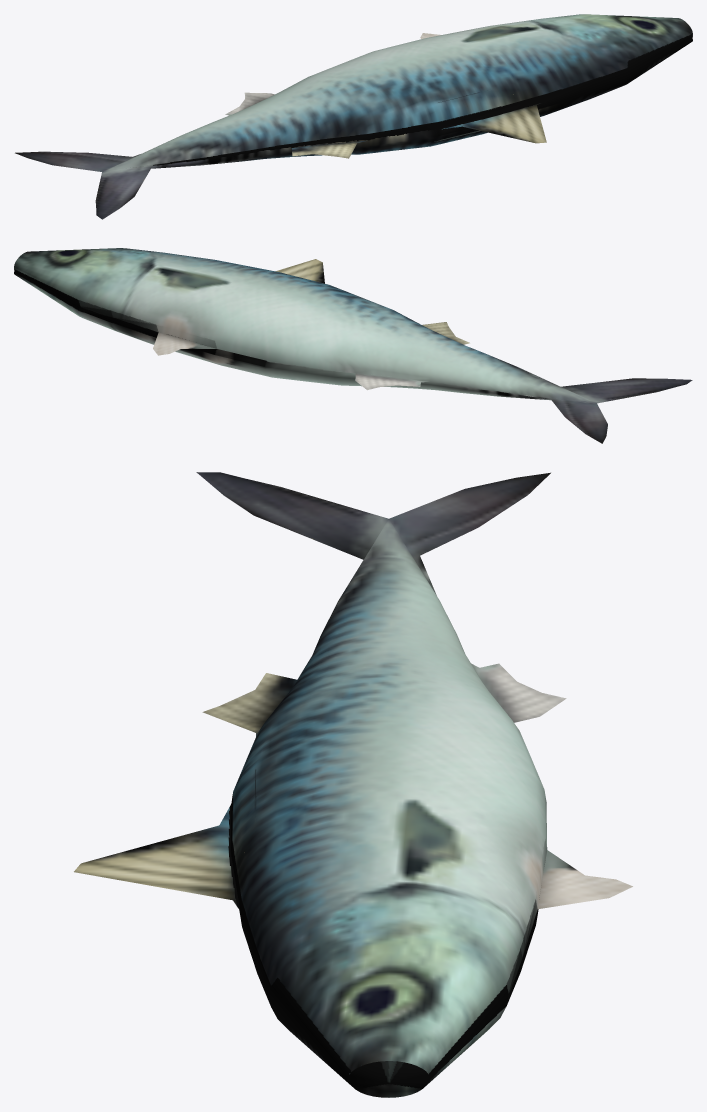
File: uploads_files_2699549_fish.fbx
The picture shows the model from 3 angles, top to bottom: view 1: azimuth 30°, elevation 25°; view 2: azimuth 150°, elevation 25°; view 3: azimuth 270°, elevation 25°; orthographic projection. The views are drawn at different scales.
Parts seen in each view (by area): view 1: Sphere; view 2: Sphere; view 3: Sphere.
Boxes of the visible parts, bbox=[...] form: Sphere: bbox=[15, 14, 692, 219]; Sphere: bbox=[14, 248, 692, 443]; Sphere: bbox=[74, 472, 632, 1097].
Bounding box in the file's own units: 164 × 18.47 × 63.41.
Materials: 1 (1 with a texture image).
